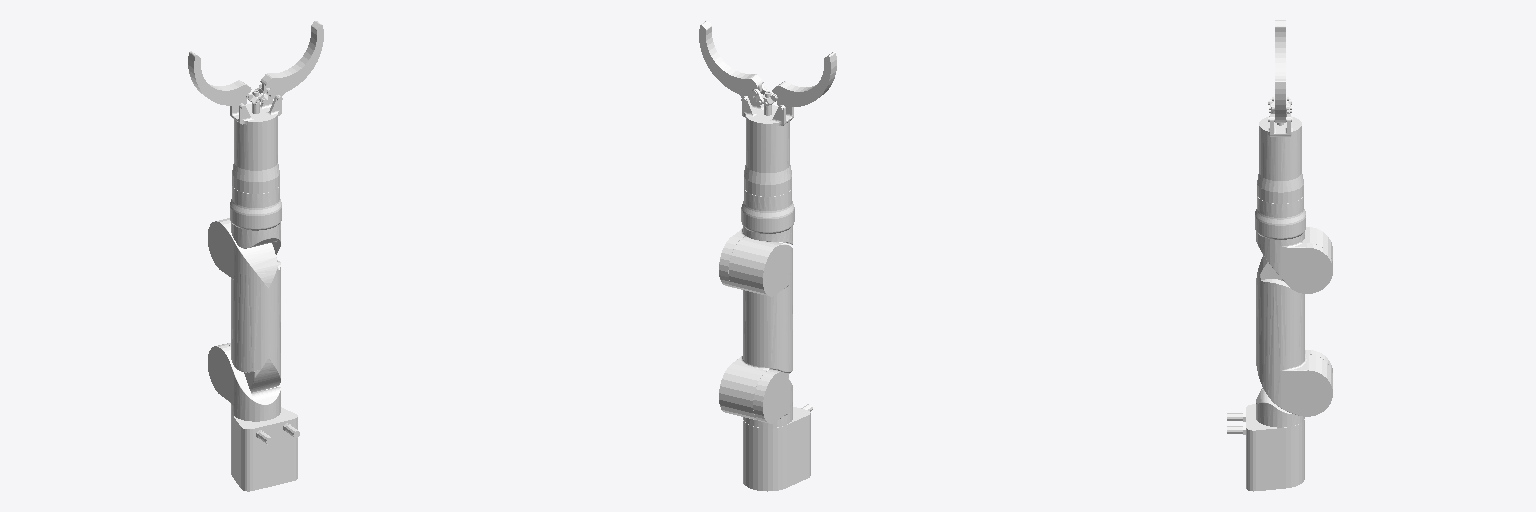
robot.urdf — rov_description:
<?xml version="1.0" encoding="utf-8"?>
<!-- This URDF was automatically created by SolidWorks to URDF Exporter! Originally created by [author] ([email redacted]) 
     Commit Version: 1.6.0-4-g7f85cfe  Build Version: 1.6.7995.38578
     For more information, please see http://wiki.ros.org/sw_urdf_exporter -->
<robot
  name="rov_description">
  <link name="dummy">
   </link>
  <joint name="dummy_joint" type="fixed">
     <parent link="dummy"/>
     <child link="base_link"/>
   </joint>
  <link
    name="base_link">
    <inertial>
      <origin
        xyz="-9.54942197113275E-17 -0.0169316466454037 0.0760137668809909"
        rpy="0 0 0" />
      <mass value="0.00001" />
      <inertia
        ixx="10"
        ixy="0.0"
        ixz="0.0"
        iyy="10"
        iyz="0.0"
        izz="10" />
    </inertial>
    <visual>
      <origin
        xyz="0 0 0"
        rpy="0 0 0" />
      <geometry>
        <mesh
          filename="package://rov_description/meshes/base_link.STL" />
      </geometry>
      <material
        name="">
        <color
          rgba="1 1 1 1" />
      </material>
    </visual>
    <collision>
      <origin
        xyz="0 0 0"
        rpy="0 0 0" />
      <geometry>
        <mesh
          filename="package://rov_description/meshes/base_link.STL" />
      </geometry>
    </collision>
  </link>
  <!--
  <link
    name="BottomLink">
    <inertial>
      <origin
        xyz="-1.93184908742383E-16 3.03331228970607E-16 -0.136"
        rpy="0 0 0" />
      <mass value="100" />
      <inertia
        ixx="10"
        ixy="0.0"
        ixz="0.0"
        iyy="10"
        iyz="0.0"
        izz="10" />
    </inertial>
    <visual>
      <origin
        xyz="0 0 0"
        rpy="0 0 0" />
      <geometry>
        <mesh
          filename="package://rov_description/meshes/BottomLink.STL" />
      </geometry>
      <material
        name="">
        <color
          rgba="1 1 1 1" />
      </material>
    </visual>
    <collision>
      <origin
        xyz="0 0 0"
        rpy="0 0 0" />
      <geometry>
        <mesh
          filename="package://rov_description/meshes/BottomLink.STL" />
      </geometry>
    </collision>
  </link>
  -->
  <!--
  <joint
    name="BottomJoint"
    type="fixed">
    <origin
      xyz="0 0 0"
      rpy="0 0 0" />
    <parent
      link="BottomLink" />
    <child
      link="base_link" />
    <axis
      xyz="0 0 0" />
    <limit
      lower="-3.14"
      upper="3.14"
      effort="100"
      velocity="1" />
  </joint>
  -->
  <link
    name="Link1">
    <inertial>
      <origin
        xyz="-0.0214118171434422 0.0246967361993189 0.0478810662050555"
        rpy="0 0 0" />
      <mass value="0.00001" />
      <inertia
        ixx="10"
        ixy="0.0"
        ixz="0.0"
        iyy="10"
        iyz="0.0"
        izz="10" />
    </inertial>
    <visual>
      <origin
        xyz="0 0 0"
        rpy="0 0 0" />
      <geometry>
        <mesh
          filename="package://rov_description/meshes/Link1.STL" />
      </geometry>
      <material
        name="">
        <color
          rgba="1 1 1 1" />
      </material>
    </visual>
    <collision>
      <origin
        xyz="0 0 0"
        rpy="0 0 0" />
      <geometry>
        <mesh
          filename="package://rov_description/meshes/Link1.STL" />
      </geometry>
    </collision>
  </link>
  <joint
    name="Joint1"
    type="revolute">
    <origin
      xyz="0 0 0.141"
      rpy="0 0 0" />
    <parent
      link="base_link" />
    <child
      link="Link1" />
    <axis
      xyz="0 0 1" />
    <limit
      lower="-3.14"
      upper="3.14"
      effort="100"
      velocity="1" />
  </joint>
  <link
    name="Link2">
    <inertial>
      <origin
        xyz="0.0480026023001568 -0.0330328838368766 0.132004691822709"
        rpy="0 0 0" />
      <mass value="0.00001" />
      <inertia
        ixx="10"
        ixy="0.0"
        ixz="0.0"
        iyy="10"
        iyz="0.0"
        izz="10" />
    </inertial>
    <visual>
      <origin
        xyz="0 0 0"
        rpy="0 0 0" />
      <geometry>
        <mesh
          filename="package://rov_description/meshes/Link2.STL" />
      </geometry>
      <material
        name="">
        <color
          rgba="1 1 1 1" />
      </material>
    </visual>
    <collision>
      <origin
        xyz="0 0 0"
        rpy="0 0 0" />
      <geometry>
        <mesh
          filename="package://rov_description/meshes/Link2.STL" />
      </geometry>
    </collision>
  </link>
  <joint
    name="Joint2"
    type="revolute">
    <origin
      xyz="-0.048 0.0525000000000002 0.0734999999999998"
      rpy="0 0 0" />
    <parent
      link="Link1" />
    <child
      link="Link2" />
    <axis
      xyz="1 0 0" />
    <limit
      lower="-1.57"
      upper="0"
      effort="100"
      velocity="1" />
  </joint>
  <link
    name="Link3">
    <inertial>
      <origin
        xyz="0.0562367446635534 -0.0430418585461576 0.0736836951426565"
        rpy="0 0 0" />
      <mass value="0.00001" />
      <inertia
        ixx="10"
        ixy="0.0"
        ixz="0.0"
        iyy="10"
        iyz="0.0"
        izz="10" />
    </inertial>
    <visual>
      <origin
        xyz="0 0 0"
        rpy="0 0 0" />
      <geometry>
        <mesh
          filename="package://rov_description/meshes/Link3.STL" />
      </geometry>
      <material
        name="">
        <color
          rgba="1 1 1 1" />
      </material>
    </visual>
    <collision>
      <origin
        xyz="0 0 0"
        rpy="0 0 0" />
      <geometry>
        <mesh
          filename="package://rov_description/meshes/Link3.STL" />
      </geometry>
    </collision>
  </link>
  <joint
    name="Joint3"
    type="revolute">
    <origin
      xyz="0 0 0.264"
      rpy="0 0 0" />
    <parent
      link="Link2" />
    <child
      link="Link3" />
    <axis
      xyz="1 0 0" />
    <limit
      lower="-1.57"
      upper="0"
      effort="100"
      velocity="1" />
  </joint>
  <link
    name="Link4">
    <inertial>
      <origin
        xyz="1.47651866411383E-09 2.62065835256717E-12 0.0745274829697697"
        rpy="0 0 0" />
      <mass value="0.00001" />
      <inertia
        ixx="10"
        ixy="0.0"
        ixz="0.0"
        iyy="10"
        iyz="0.0"
        izz="10" />
    </inertial>
    <visual>
      <origin
        xyz="0 0 0"
        rpy="0 0 0" />
      <geometry>
        <mesh
          filename="package://rov_description/meshes/Link4.STL" />
      </geometry>
      <material
        name="">
        <color
          rgba="1 1 1 1" />
      </material>
    </visual>
    <collision>
      <origin
        xyz="0 0 0"
        rpy="0 0 0" />
      <geometry>
        <mesh
          filename="package://rov_description/meshes/Link4.STL" />
      </geometry>
    </collision>
  </link>
  <joint
    name="Joint4"
    type="revolute">
    <origin
      xyz="0.0479999999999997 -0.052499999999999 0.143"
      rpy="0 0 0" />
    <parent
      link="Link3" />
    <child
      link="Link4" />
    <axis
      xyz="0 0 1" />
    <limit
      lower="-3.14"
      upper="3.14"
      effort="100"
      velocity="1" />
  </joint>
  <link
    name="LinkGG">
    <inertial>
      <origin
        xyz="-5.40504994489561E-14 2.65572929566462E-16 -0.0275462451340704"
        rpy="0 0 0" />
      <mass value="0.00001" />
      <inertia
        ixx="10"
        ixy="0.0"
        ixz="0.0"
        iyy="10"
        iyz="0.0"
        izz="10" />
    </inertial>
    <visual>
      <origin
        xyz="0 0 0"
        rpy="0 0 0" />
      <geometry>
        <mesh
          filename="package://rov_description/meshes/LinkGG.STL" />
      </geometry>
      <material
        name="">
        <color
          rgba="1 1 1 1" />
      </material>
    </visual>
    <collision>
      <origin
        xyz="0 0 0"
        rpy="0 0 0" />
      <geometry>
        <mesh
          filename="package://rov_description/meshes/LinkGG.STL" />
      </geometry>
    </collision>
  </link>
  <joint
    name="JointGG"
    type="fixed">
    <origin
      xyz="0 0 0.187092613729999"
      rpy="0 0 0" />
    <parent
      link="Link4" />
    <child
      link="LinkGG" />
    <axis
      xyz="0 0 0" />
  </joint>
  <link
    name="LinkGL">
    <inertial>
      <origin
        xyz="-0.0413269216883504 0.0239705087446804 0.0414054560452126"
        rpy="0 0 0" />
      <mass value="0.00001" />
      <inertia
        ixx="10"
        ixy="0.0"
        ixz="0.0"
        iyy="10"
        iyz="0.0"
        izz="10" />
    </inertial>
    <visual>
      <origin
        xyz="0 0 0"
        rpy="0 0 0" />
      <geometry>
        <mesh
          filename="package://rov_description/meshes/LinkGL.STL" />
      </geometry>
      <material
        name="">
        <color
          rgba="1 1 1 1" />
      </material>
    </visual>
    <collision>
      <origin
        xyz="0 0 0"
        rpy="0 0 0" />
      <geometry>
        <mesh
          filename="package://rov_description/meshes/LinkGL.STL" />
      </geometry>
    </collision>
  </link>
  <joint
    name="JointGL"
    type="revolute">
    <origin
      xyz="-0.0400000000000017 -0.024 0.178499999999999"
      rpy="0 0 0" />
    <parent
      link="Link4" />
    <child
      link="LinkGL" />
    <axis
      xyz="0 1 0" />
    <limit
      lower="0"
      upper="0.872"
      effort="100"
      velocity="1" />
  </joint>
  <link
    name="LinkGR">
    <inertial>
      <origin
        xyz="0.0413269216874473 0.0239705058046802 0.0414054560479873"
        rpy="0 0 0" />
      <mass value="0.00001" />
      <inertia
        ixx="10"
        ixy="0.0"
        ixz="0.0"
        iyy="10"
        iyz="0.0"
        izz="10" />
    </inertial>
    <visual>
      <origin
        xyz="0 0 0"
        rpy="0 0 0" />
      <geometry>
        <mesh
          filename="package://rov_description/meshes/LinkGR.STL" />
      </geometry>
      <material
        name="">
        <color
          rgba="1 1 1 1" />
      </material>
    </visual>
    <collision>
      <origin
        xyz="0 0 0"
        rpy="0 0 0" />
      <geometry>
        <mesh
          filename="package://rov_description/meshes/LinkGR.STL" />
      </geometry>
    </collision>
  </link>
  <joint
    name="JointGR"
    type="revolute">
    <origin
      xyz="0.04 -0.024 0.178499999999999"
      rpy="0 0 0" />
    <parent
      link="Link4" />
    <child
      link="LinkGR" />
    <axis
      xyz="0 -1 0" />
    <limit
      lower="0"
      upper="0.872"
      effort="100"
      velocity="1" />
  </joint>
</robot>

--- Render facts (derived) ---
The picture shows the robot from 3 angles, left to right: view 1: azimuth 30°, elevation 25°; view 2: azimuth 150°, elevation 25°; view 3: azimuth 270°, elevation 25°; orthographic projection.
Model rov_description with 9 links and 8 joints (6 revolute, 2 fixed), rooted at dummy, posed all joints at 0.
Links seen in each view (by area): view 1: Link2, base_link, Link4, Link1, Link3, LinkGR, LinkGL; view 2: Link2, base_link, Link4, Link3, Link1, LinkGR, LinkGL; view 3: Link2, Link3, base_link, Link4, Link1, LinkGL.
Link boxes in pixels (<box>): Link2: <box>208,218,280,392</box>; base_link: <box>231,407,299,491</box>; Link4: <box>230,95,281,193</box>; Link1: <box>208,344,280,421</box>; Link3: <box>230,186,281,254</box>; LinkGR: <box>259,21,323,101</box>; LinkGL: <box>188,51,252,110</box>; Link2: <box>719,237,792,419</box>; base_link: <box>743,404,812,491</box>; Link4: <box>742,96,793,196</box>; Link3: <box>719,189,794,287</box>; Link1: <box>743,370,792,427</box>; LinkGR: <box>699,21,764,102</box>; LinkGL: <box>771,52,836,111</box>; Link2: <box>1256,227,1332,416</box>; Link3: <box>1255,196,1332,293</box>; base_link: <box>1227,404,1304,491</box>; Link4: <box>1257,99,1303,203</box>; Link1: <box>1256,350,1332,427</box>; LinkGL: <box>1268,20,1291,104</box>.
Size in the robot's own frame: 0.2869 by 0.207 by 0.9195 metres.
Meshes: 8 distinct files referenced, 8 mesh visuals loaded (8 binary STL).